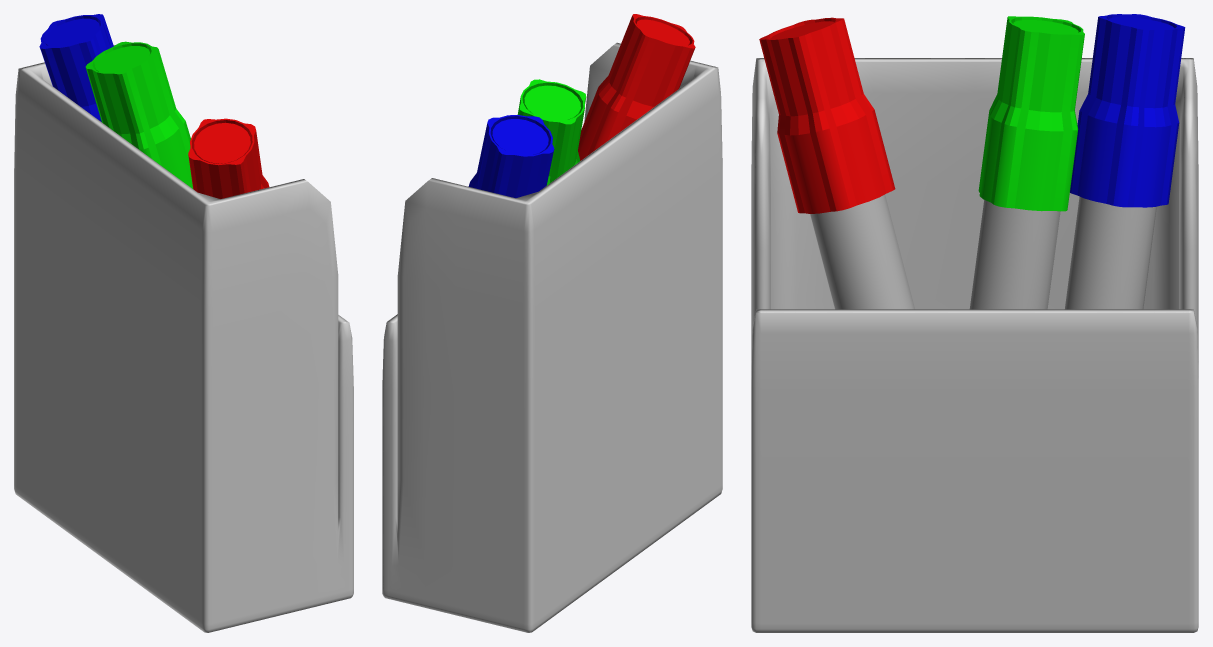
The model's file is Markers.fbx.
3 views of the same model, side by side, from view 1: azimuth 30°, elevation 25°; view 2: azimuth 150°, elevation 25°; view 3: azimuth 270°, elevation 25° (orthographic). The views are drawn at different scales.
Parts seen in each view (by area): view 1: Markers; view 2: Markers; view 3: Markers.
Boxes of the visible parts, x1=… form: Markers: x1=14, y1=14, x2=353, y2=632; Markers: x1=382, y1=14, x2=722, y2=632; Markers: x1=751, y1=14, x2=1198, y2=632.
Size of the model in its own units: 2.03 by 6.24 by 4.52.
